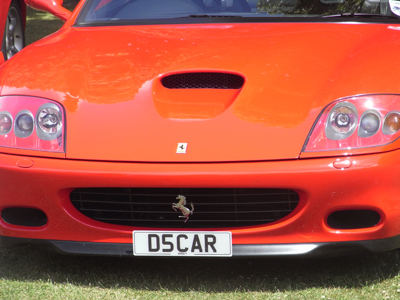licencePlate: (132, 229, 232, 256)
